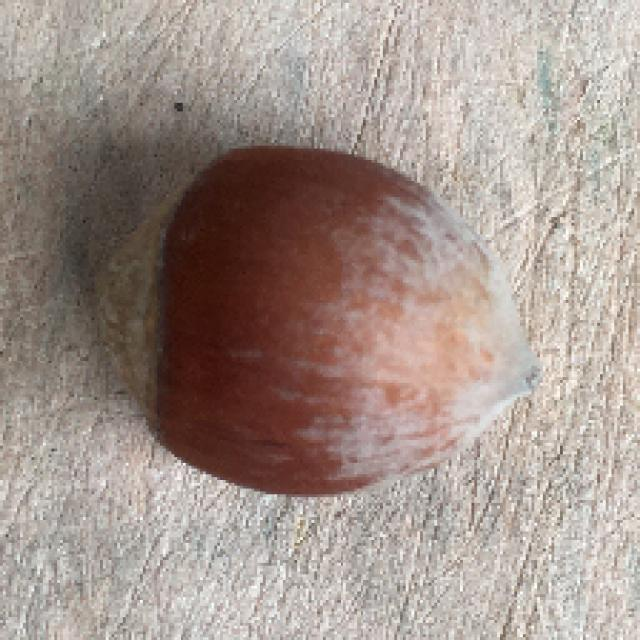qualityHazelnut: (84, 132, 552, 506)
